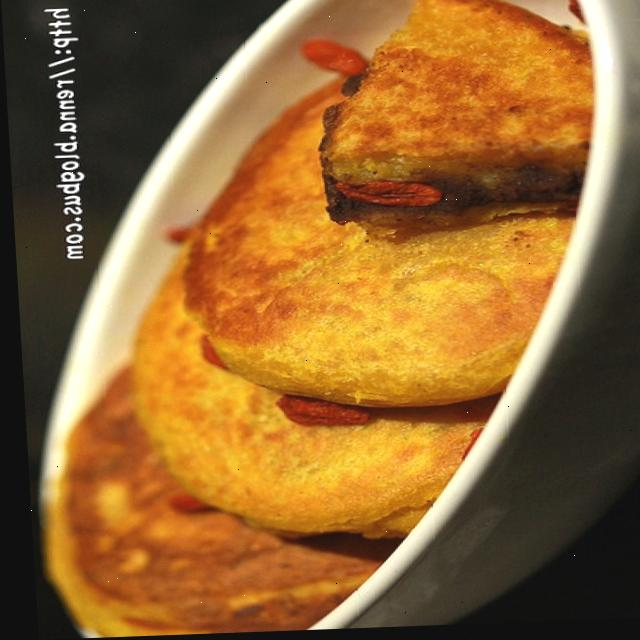炸货点心: (33, 0, 640, 630)
蛋糕甜品: (33, 0, 640, 630)
